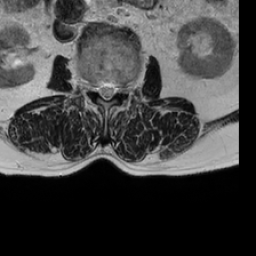CCS_normal: (104, 74, 109, 108)
LFS_normal: (117, 76, 126, 98)
LLS_normal: (109, 76, 117, 100)
RFS_normal: (90, 75, 97, 98)
RLS_normal: (97, 77, 104, 99)
